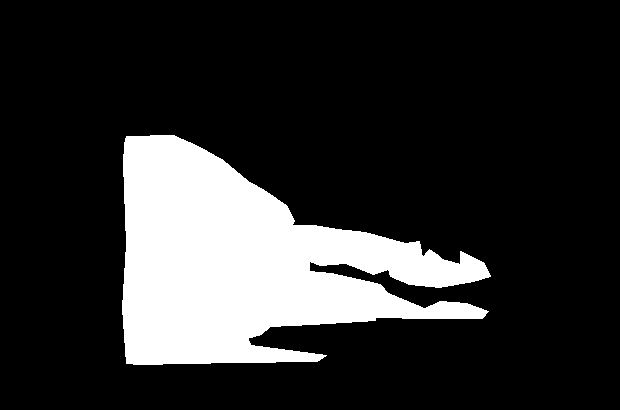type2: (118, 128, 493, 364)
